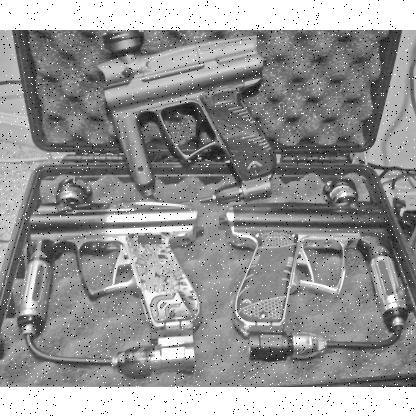gun: (17, 174, 204, 378), (218, 179, 408, 361), (96, 29, 276, 203)
